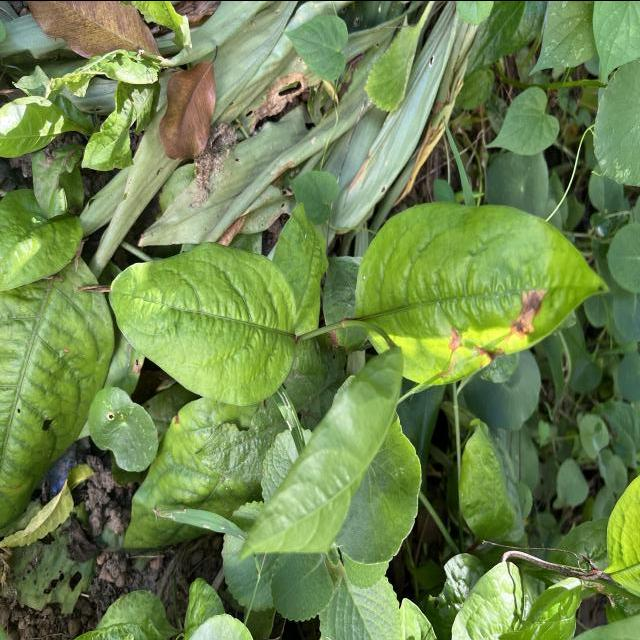Plumbago indica: (348, 193, 612, 388), (103, 238, 304, 411)
